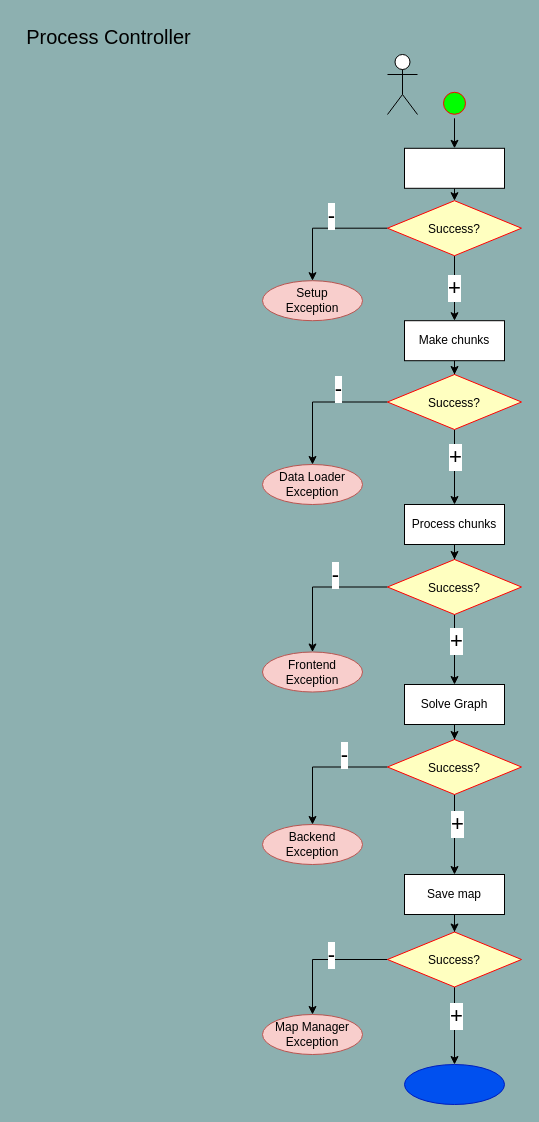
This 539x1122 diagram has some shape labels left out. Here are the shapes that lost their labels. From the top down, the centre of each, then its label:
At [402,84]: "Actor".
At [454,167]: "Setup System".
At [454,1084]: "Finish".
